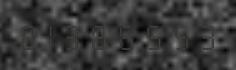eight: (17, 20, 41, 50), (92, 20, 116, 50)
five: (142, 20, 166, 50), (167, 20, 191, 50)
one: (42, 20, 66, 50)
six: (117, 20, 141, 50)
three: (67, 20, 91, 50), (192, 20, 216, 50)
